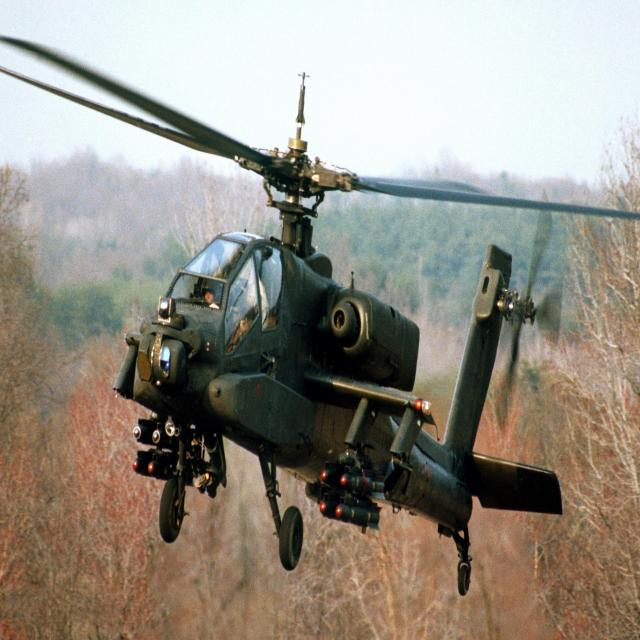MIL_HELO: (0, 19, 633, 603)
